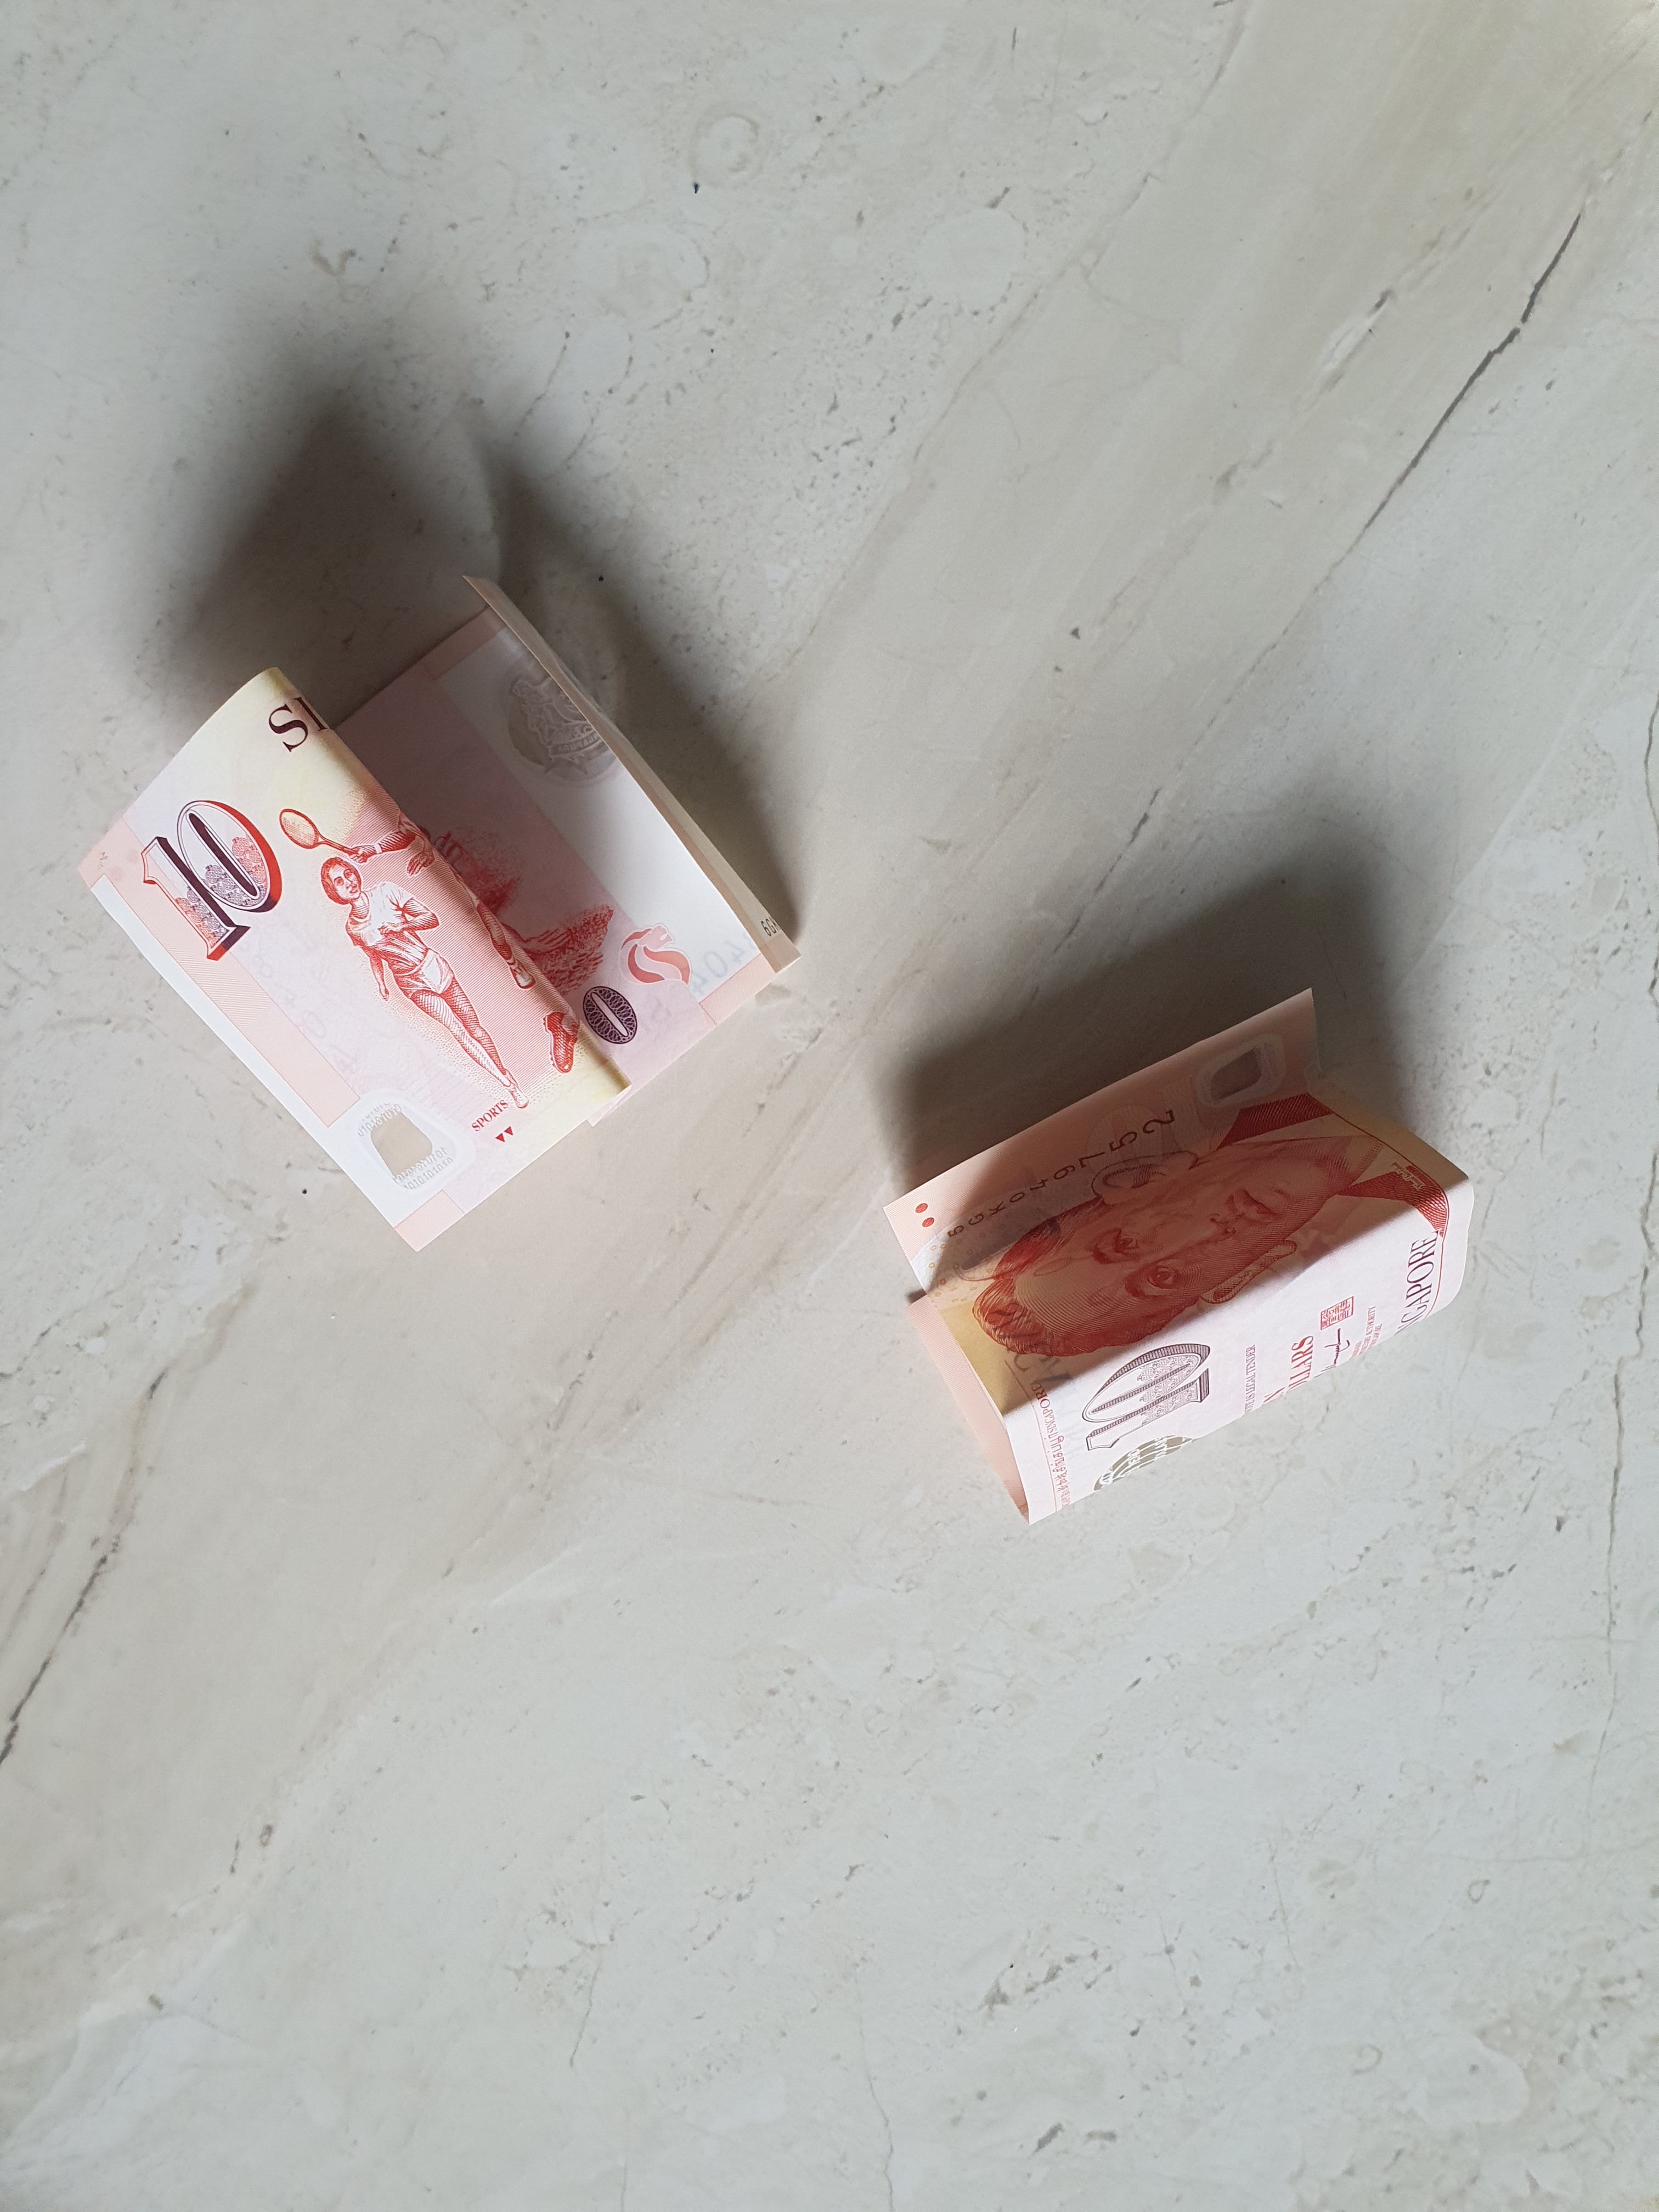$10: (75, 573, 803, 1251), (884, 988, 1476, 1524)
